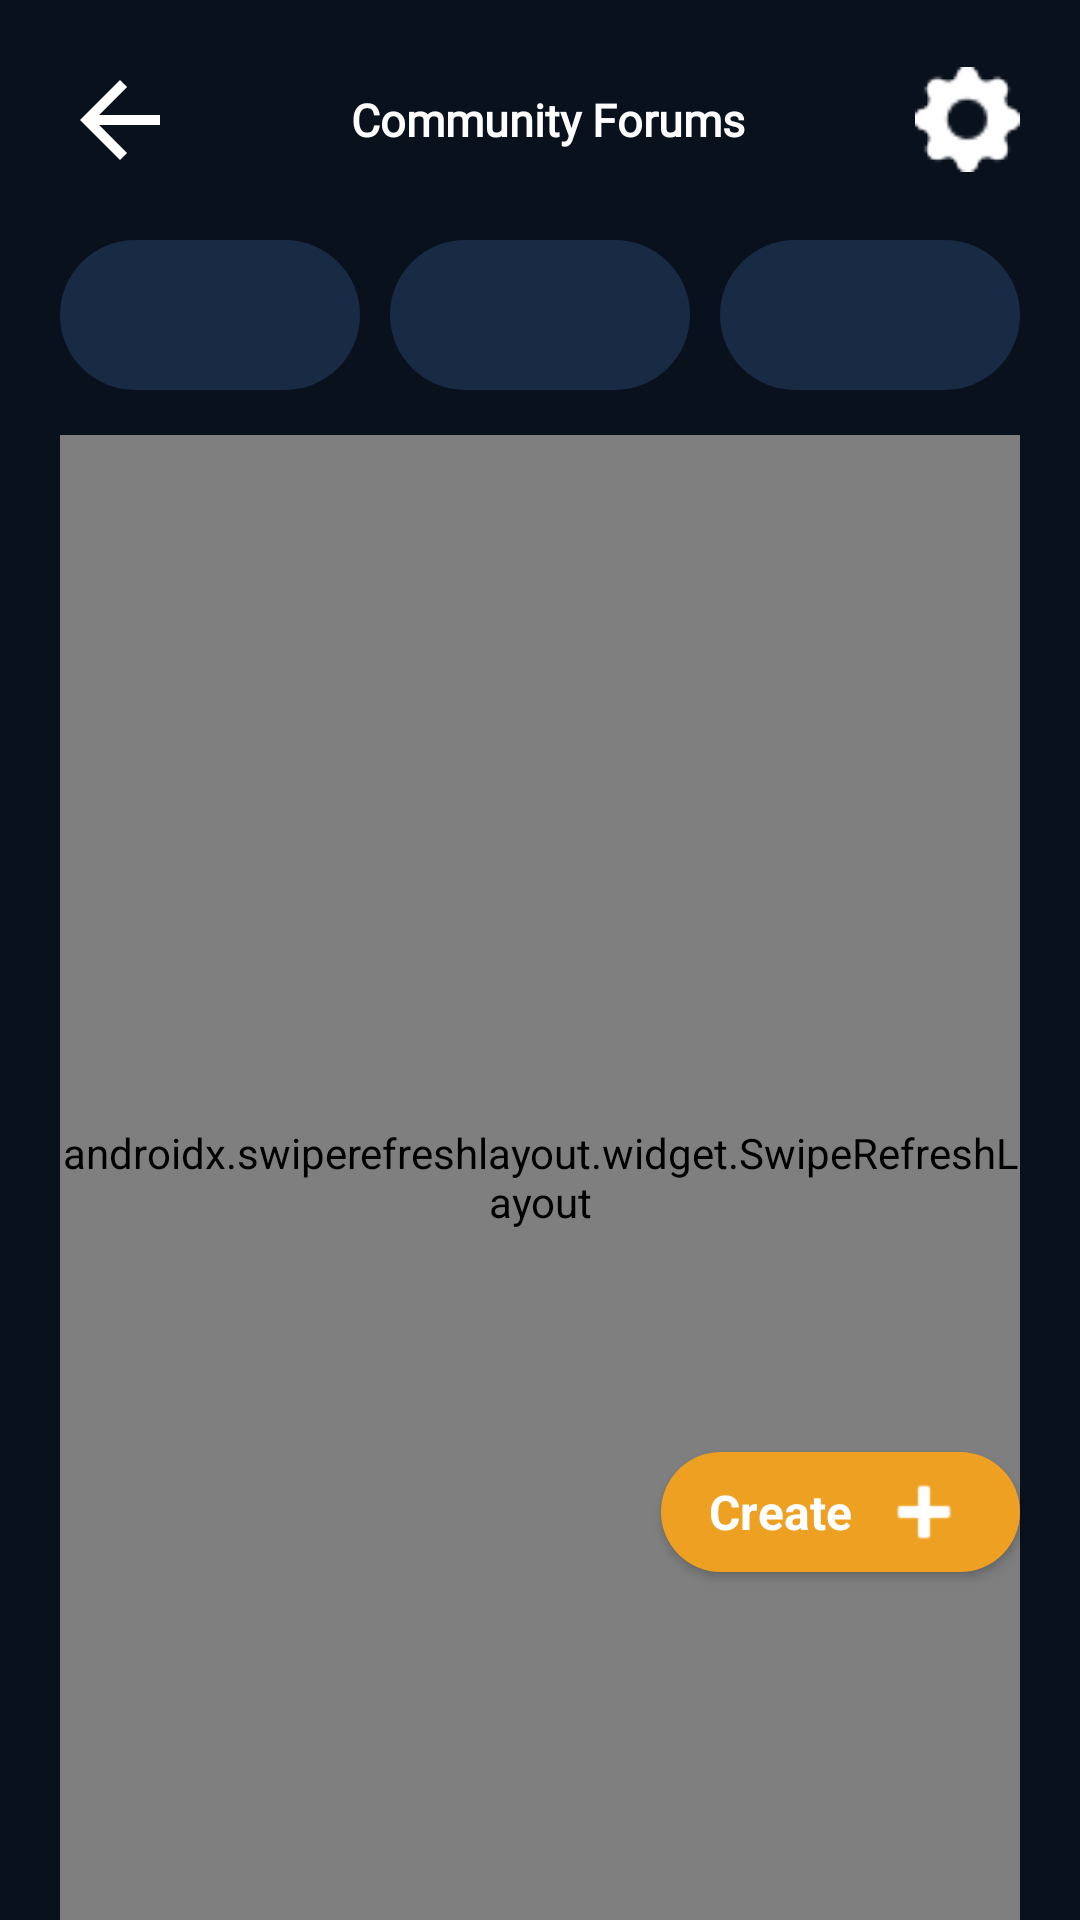

Named icons in this screenshot (1080 x 1920) and their centers, (x=x, y=y):
settings: (x=967, y=119)
